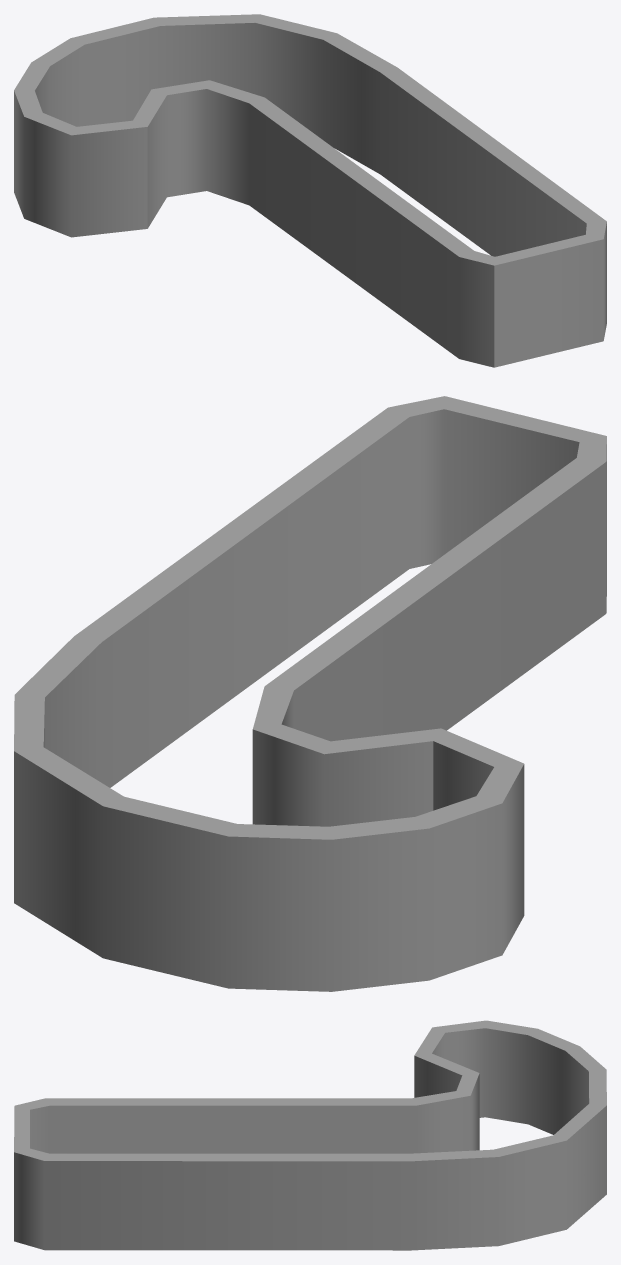
File: BiscuitCutter_CandyCane_01.fbx
The picture shows the model from 3 angles, top to bottom: view 1: azimuth 30°, elevation 25°; view 2: azimuth 150°, elevation 25°; view 3: azimuth 270°, elevation 25°; orthographic projection. The views are drawn at different scales.
Parts seen in each view (by area): view 1: BiscuitCutter_CandyCane_01; view 2: BiscuitCutter_CandyCane_01; view 3: BiscuitCutter_CandyCane_01.
Boxes of the visible parts, <box> form: BiscuitCutter_CandyCane_01: <box>14,14,606,367</box>; BiscuitCutter_CandyCane_01: <box>14,396,606,991</box>; BiscuitCutter_CandyCane_01: <box>14,1020,606,1250</box>.
Bounding box in the file's own units: 0.0432 × 0.0128 × 0.0769.
